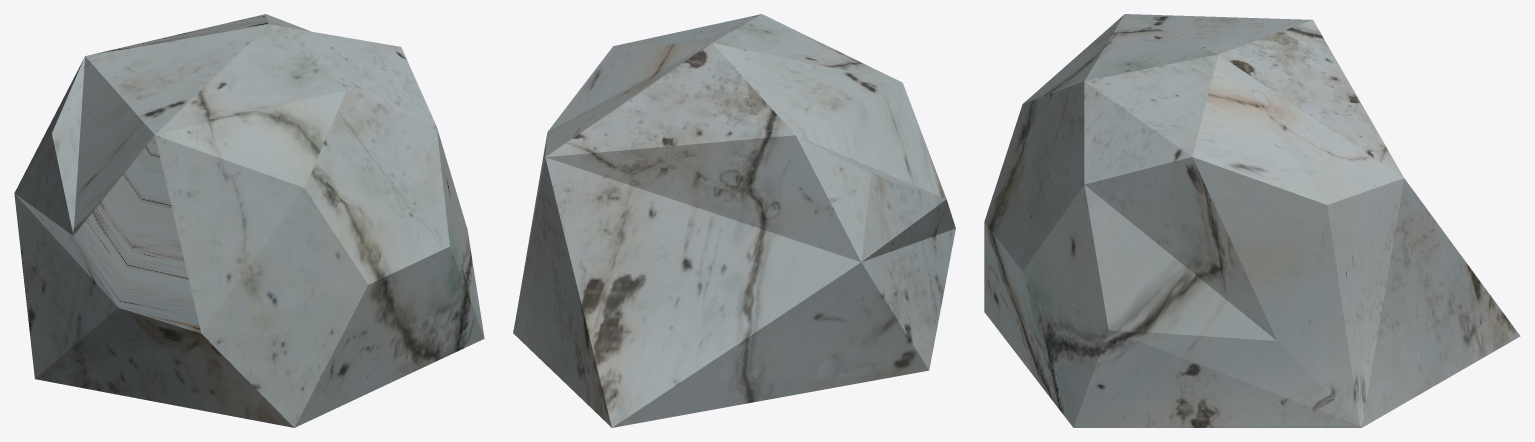
The model's file is rock7.fbx.
The picture shows the model from 3 angles, left to right: view 1: azimuth 30°, elevation 25°; view 2: azimuth 150°, elevation 25°; view 3: azimuth 270°, elevation 25°; orthographic projection. The views are drawn at different scales.
Visible parts, largest first — view 1: Icosphere; view 2: Icosphere; view 3: Icosphere.
Boxes of the visible parts, x1=… form: Icosphere: x1=14, y1=14, x2=484, y2=427; Icosphere: x1=513, y1=14, x2=955, y2=427; Icosphere: x1=984, y1=14, x2=1520, y2=427.
Size of the model in its own units: 162 by 121 by 196.
